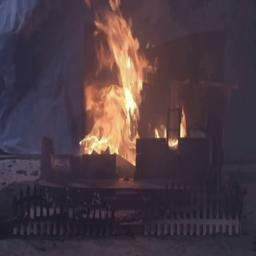fire: (75, 2, 176, 163)
